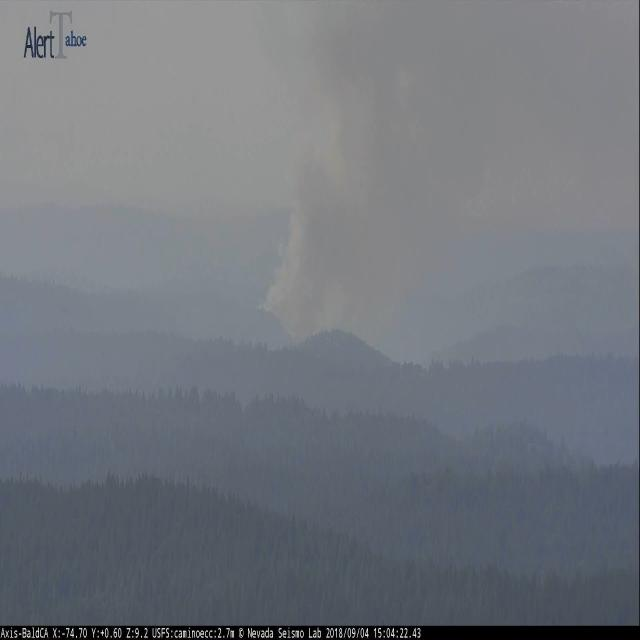smoke: (258, 55, 469, 342)
